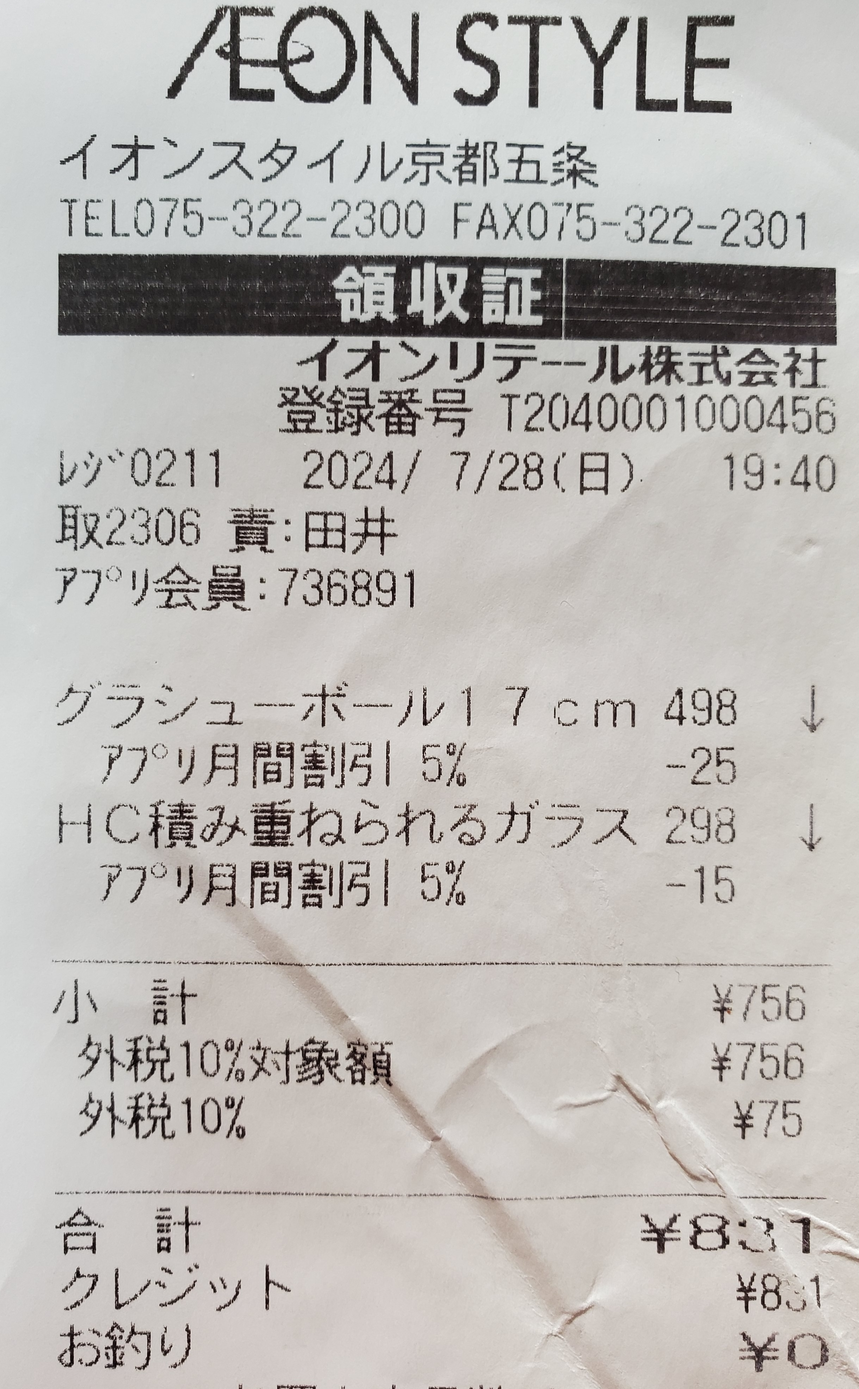Date: (288, 432, 553, 496)
Shopname: (151, 5, 783, 127)
Telnum: (126, 187, 437, 243)
Totalpay: (57, 1203, 839, 1265)
